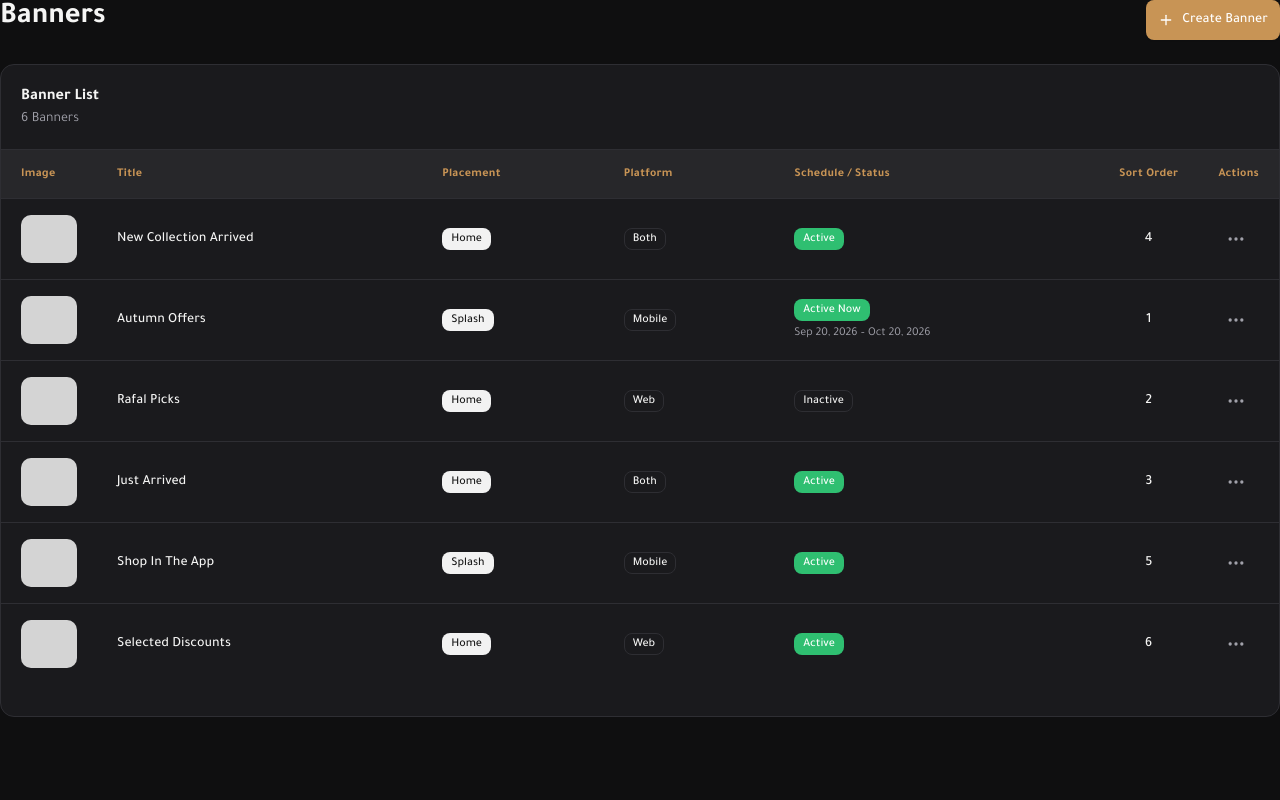
Test case: BannersPage › loads show data, renders the remote image, and blocks pristine edits
Click the button named "Actions for New collection arrived".
click(1236, 238)  # box [1218,220,1254,256]
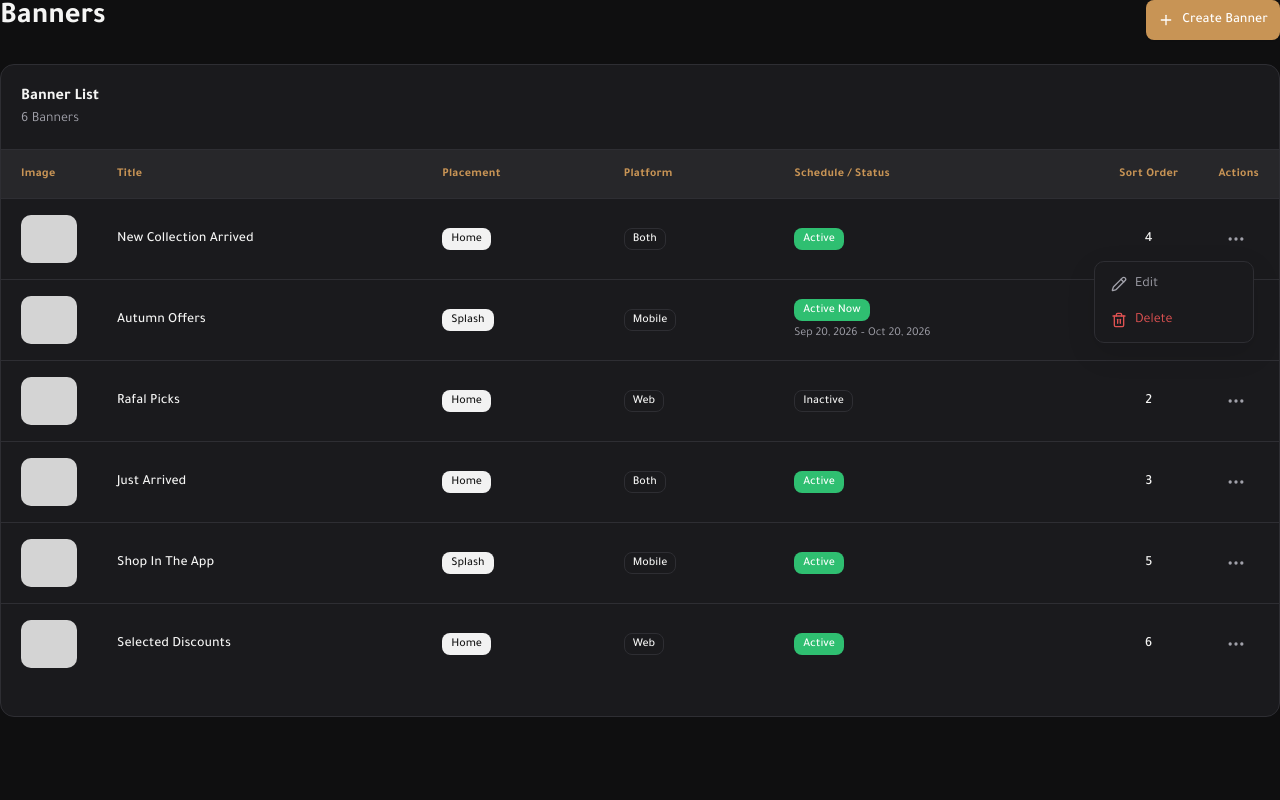
Click the menu item "Edit".
click(1135, 284)  # box [1111,276,1158,292]
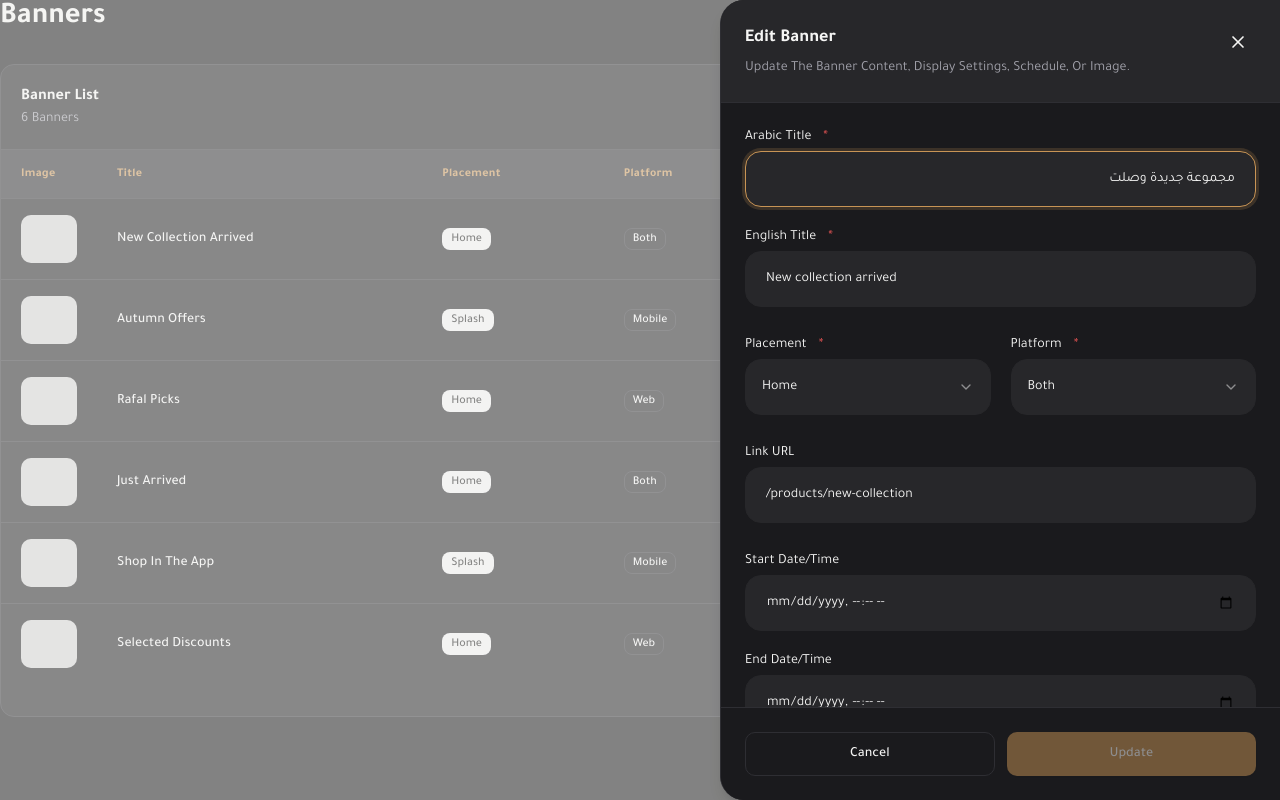
Result: the element that starts with "Arabic Title" is shown at [721,103,1279,707]
Result: the field labelled "English Title *" holds "New collection arrived" at [754,261,1247,297]
Result: the dropdown named "Placement" reads "Home" at [745,359,990,415]
